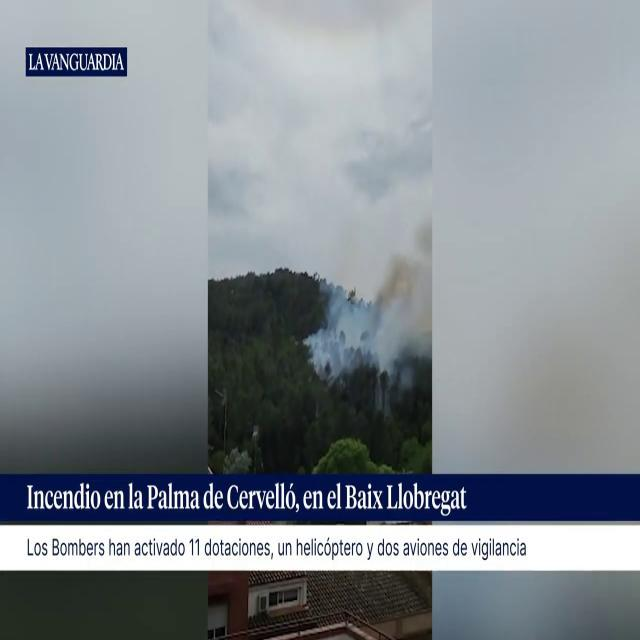Smoke: (310, 192, 432, 390)
